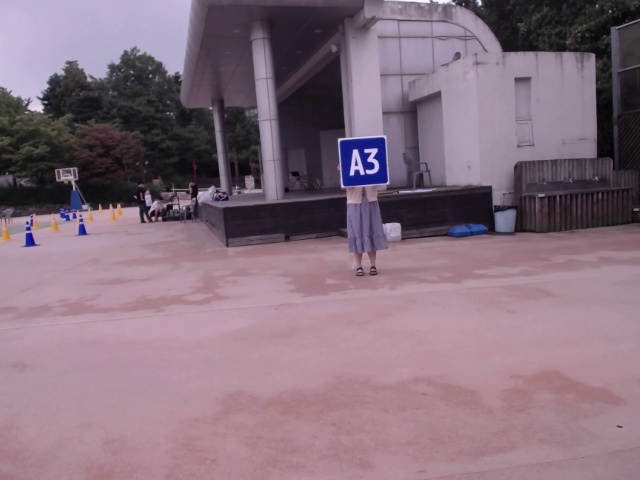delivery_a3: (338, 137, 389, 187)
